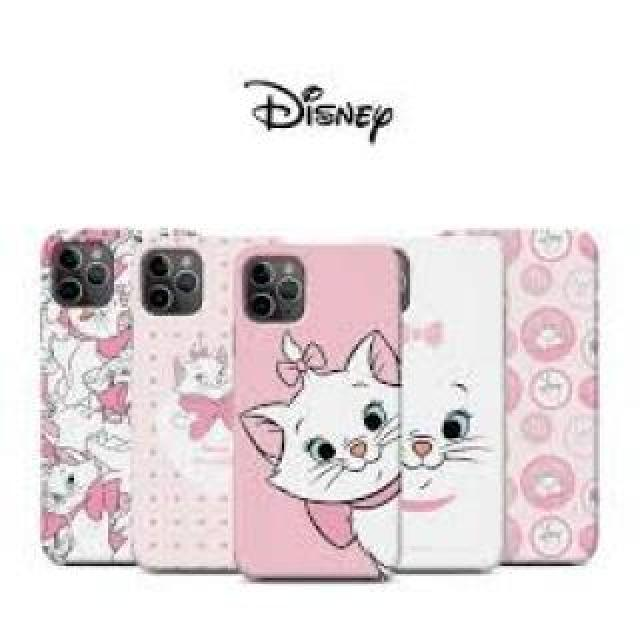smart phone: (238, 240, 408, 593), (135, 227, 233, 580), (45, 218, 135, 574), (414, 224, 508, 564)
